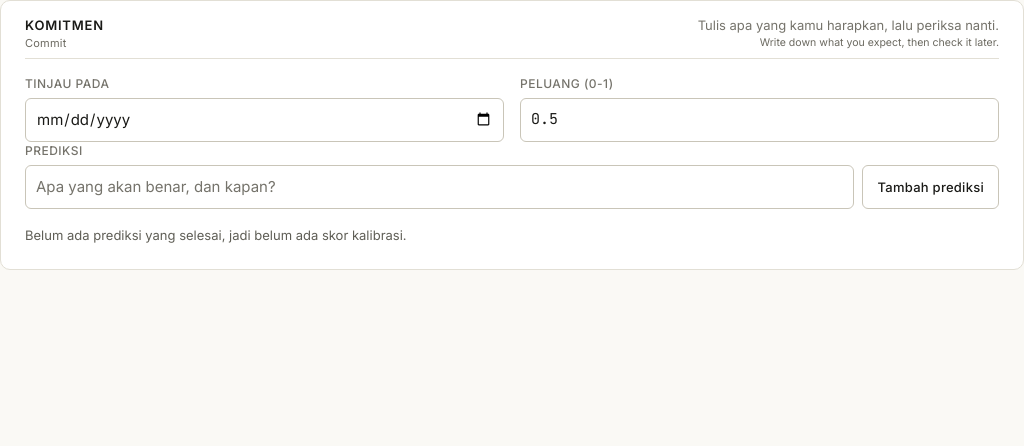
Test: CommitPanel › assigns distinct ids to duplicate prediction text
This screenshot has width=1024, height=446.
Type "Harga naik" into the field labelled "Prediksi" at (440, 187), box [25,165,854,209]
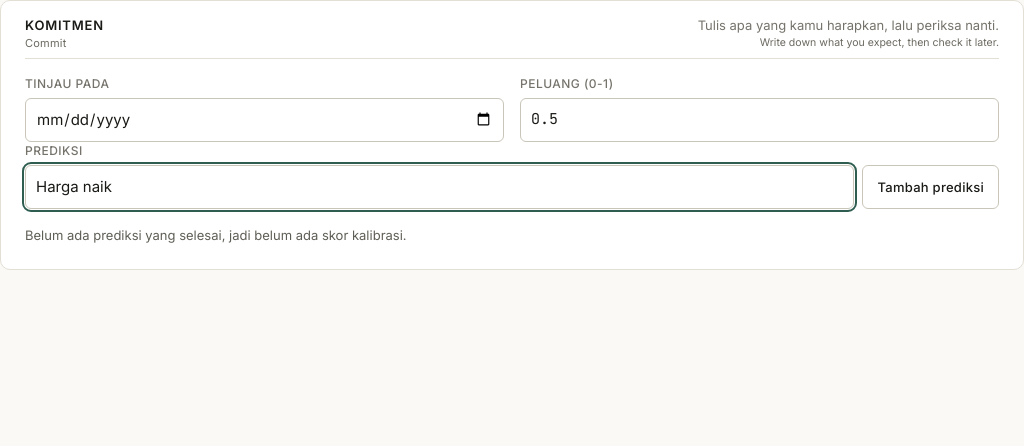
Replace the text in the number field labelled "Peluang (0-1)" with "0.8" at (760, 120), box [520,98,999,142]
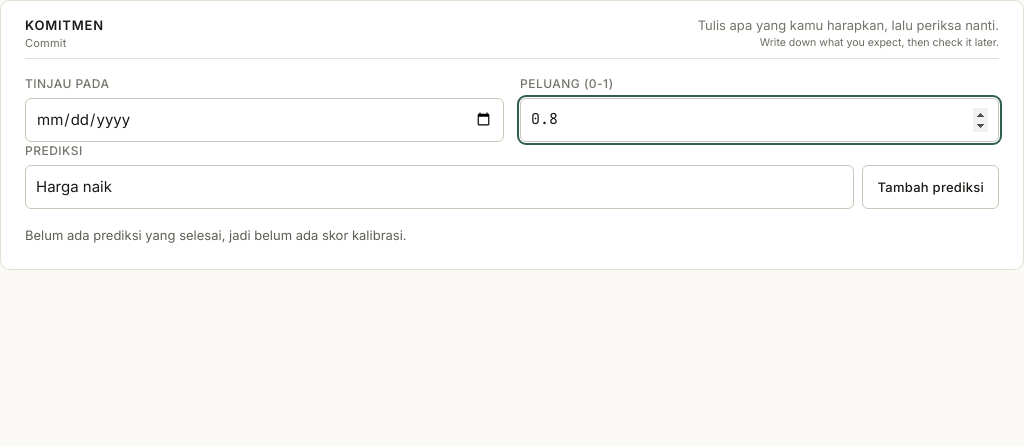
Click the button "Tambah prediksi" at (931, 187), box [862,165,999,209]
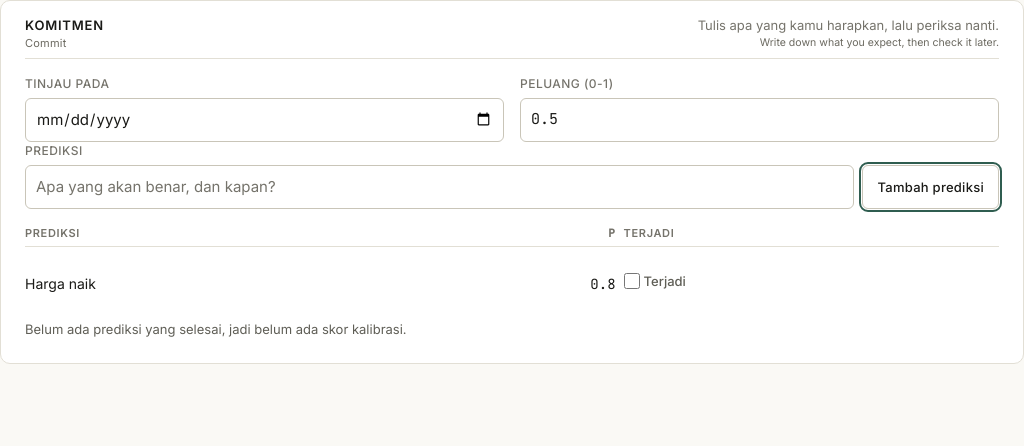
Type "Harga naik" into the field labelled "Prediksi" at (440, 187), box [25,165,854,209]
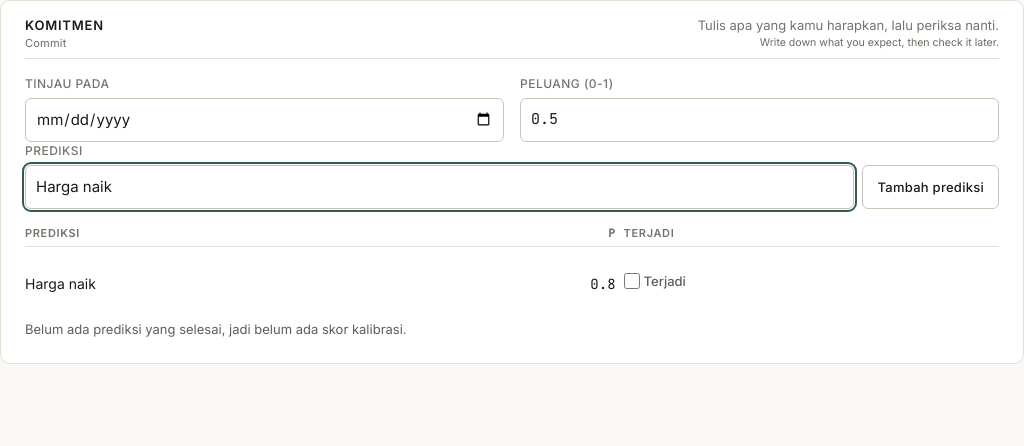
Replace the text in the number field labelled "Peluang (0-1)" with "0.3" at (760, 120), box [520,98,999,142]
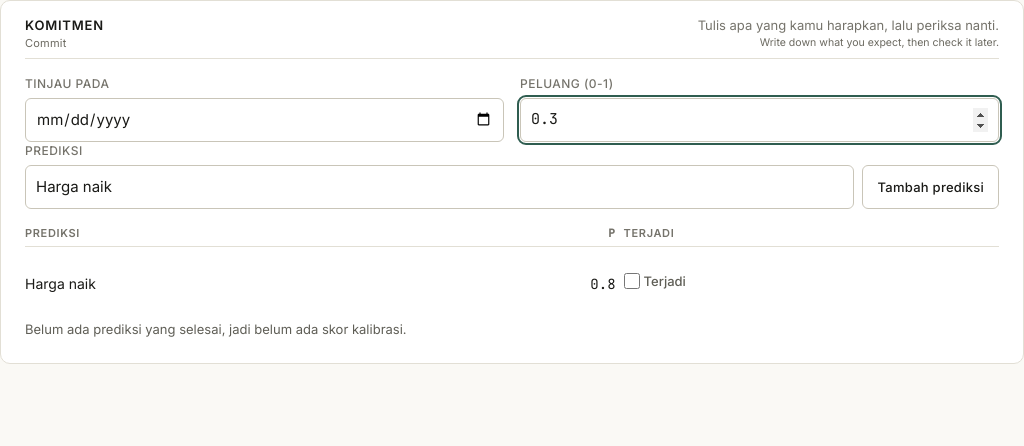
Click the button "Tambah prediksi" at (931, 187), box [862,165,999,209]
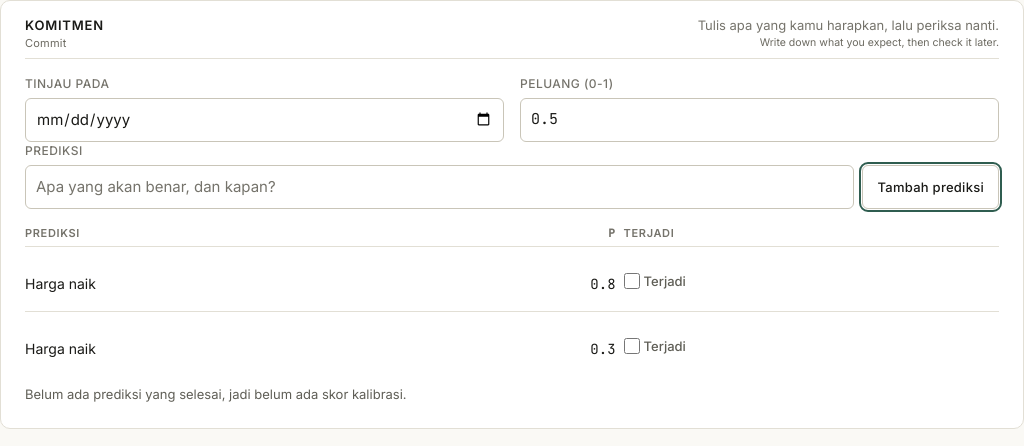
expect the number of checkboxes with id "outcome-harga-naik" is 1: met, box [624,273,640,289]
expect the number of checkboxes is 2: met, box [624,273,640,289]; [624,338,640,354]
expect the number of checkboxes with id "outcome-harga-naik-2" is 1: met, box [624,338,640,354]
